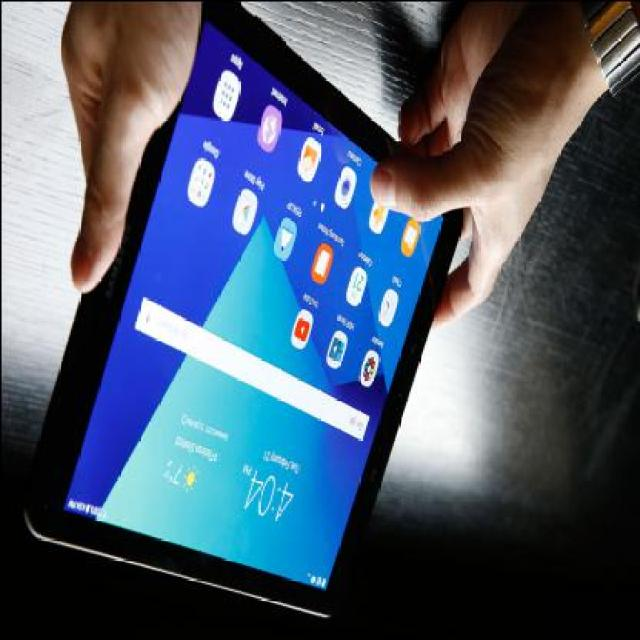tablet: (51, 0, 466, 639)
